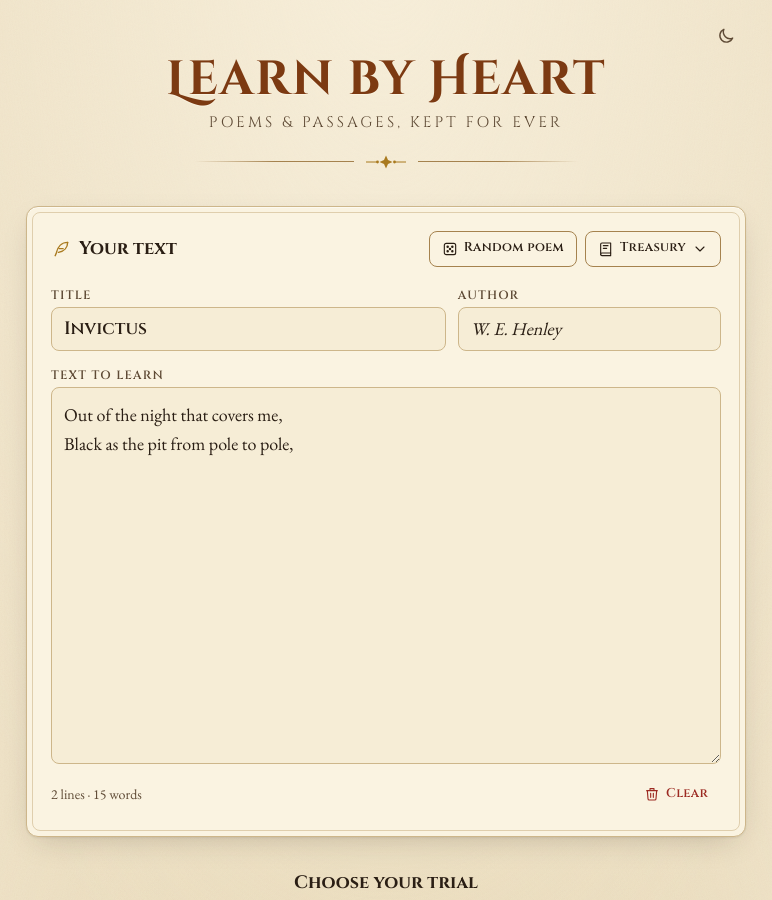
Test: compose screen › disables practice until there is text, and clearing can be undone
Click the button "Clear": point(676, 794) [631, 776, 721, 812]
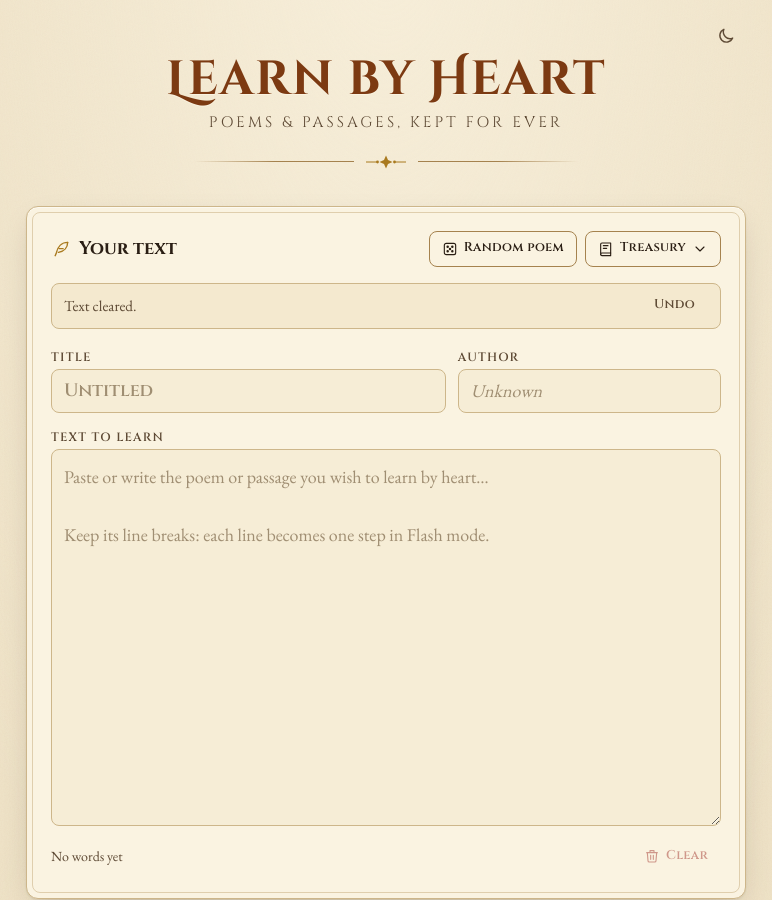
Now the text box labelled "Text to learn" is empty, box [51, 449, 721, 826]
Click the button "Undo": point(674, 306) [641, 288, 708, 324]
(page scrolled)
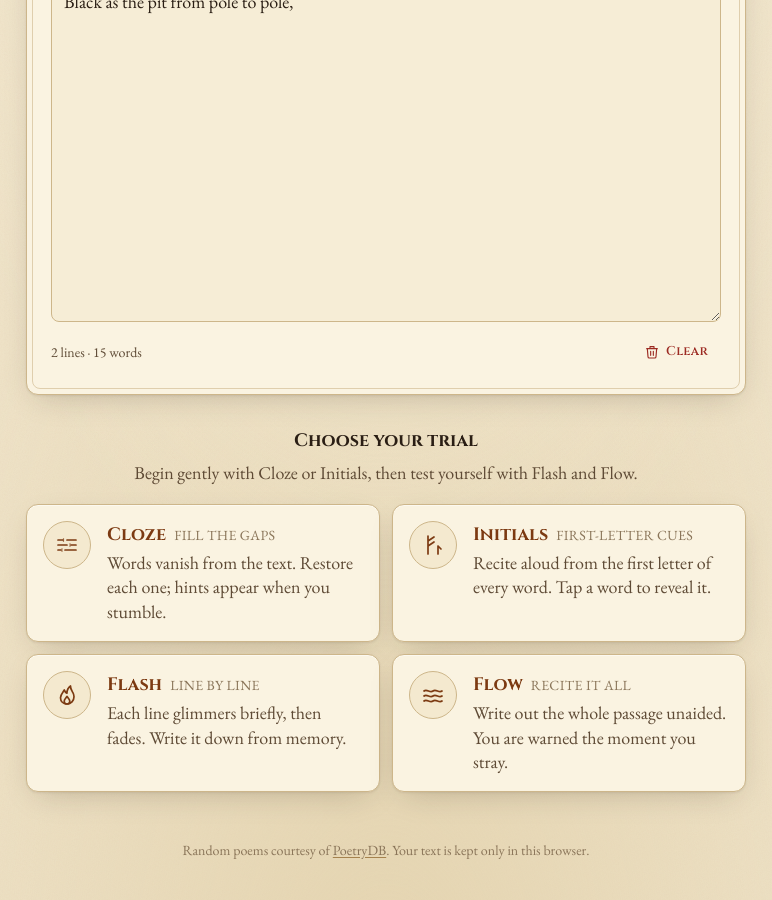
Now the button "Cloze" is enabled, box [26, 504, 380, 642]
